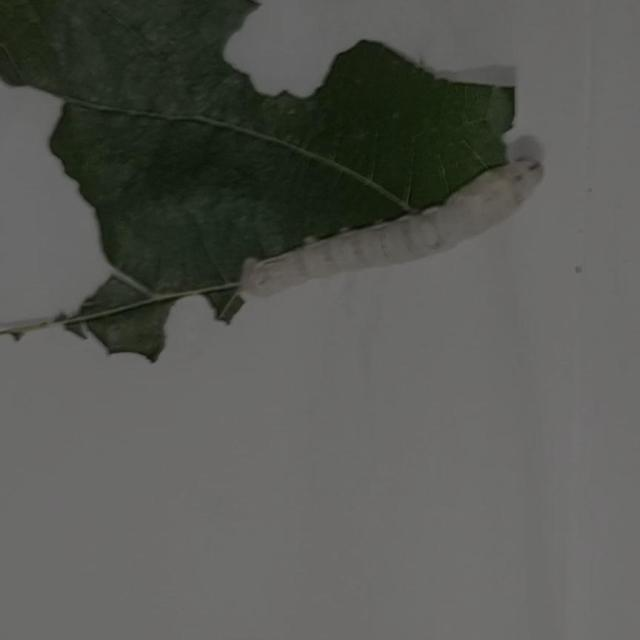Healthy: (176, 123, 568, 372)
